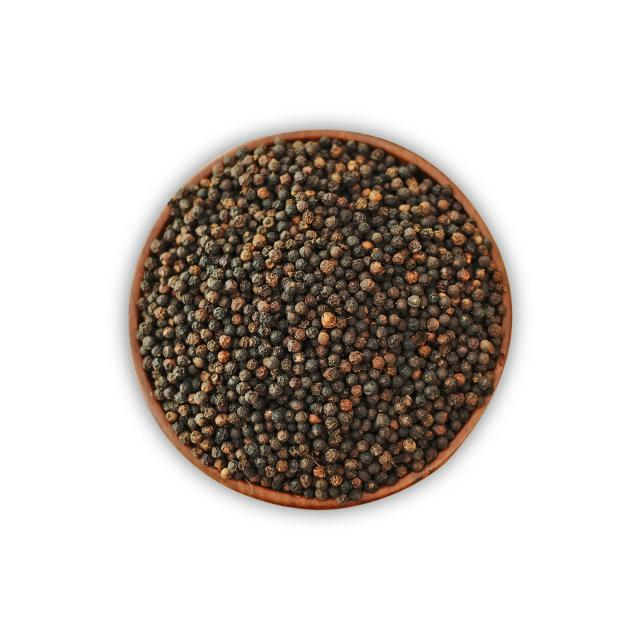Black pepper: (121, 132, 514, 510)
